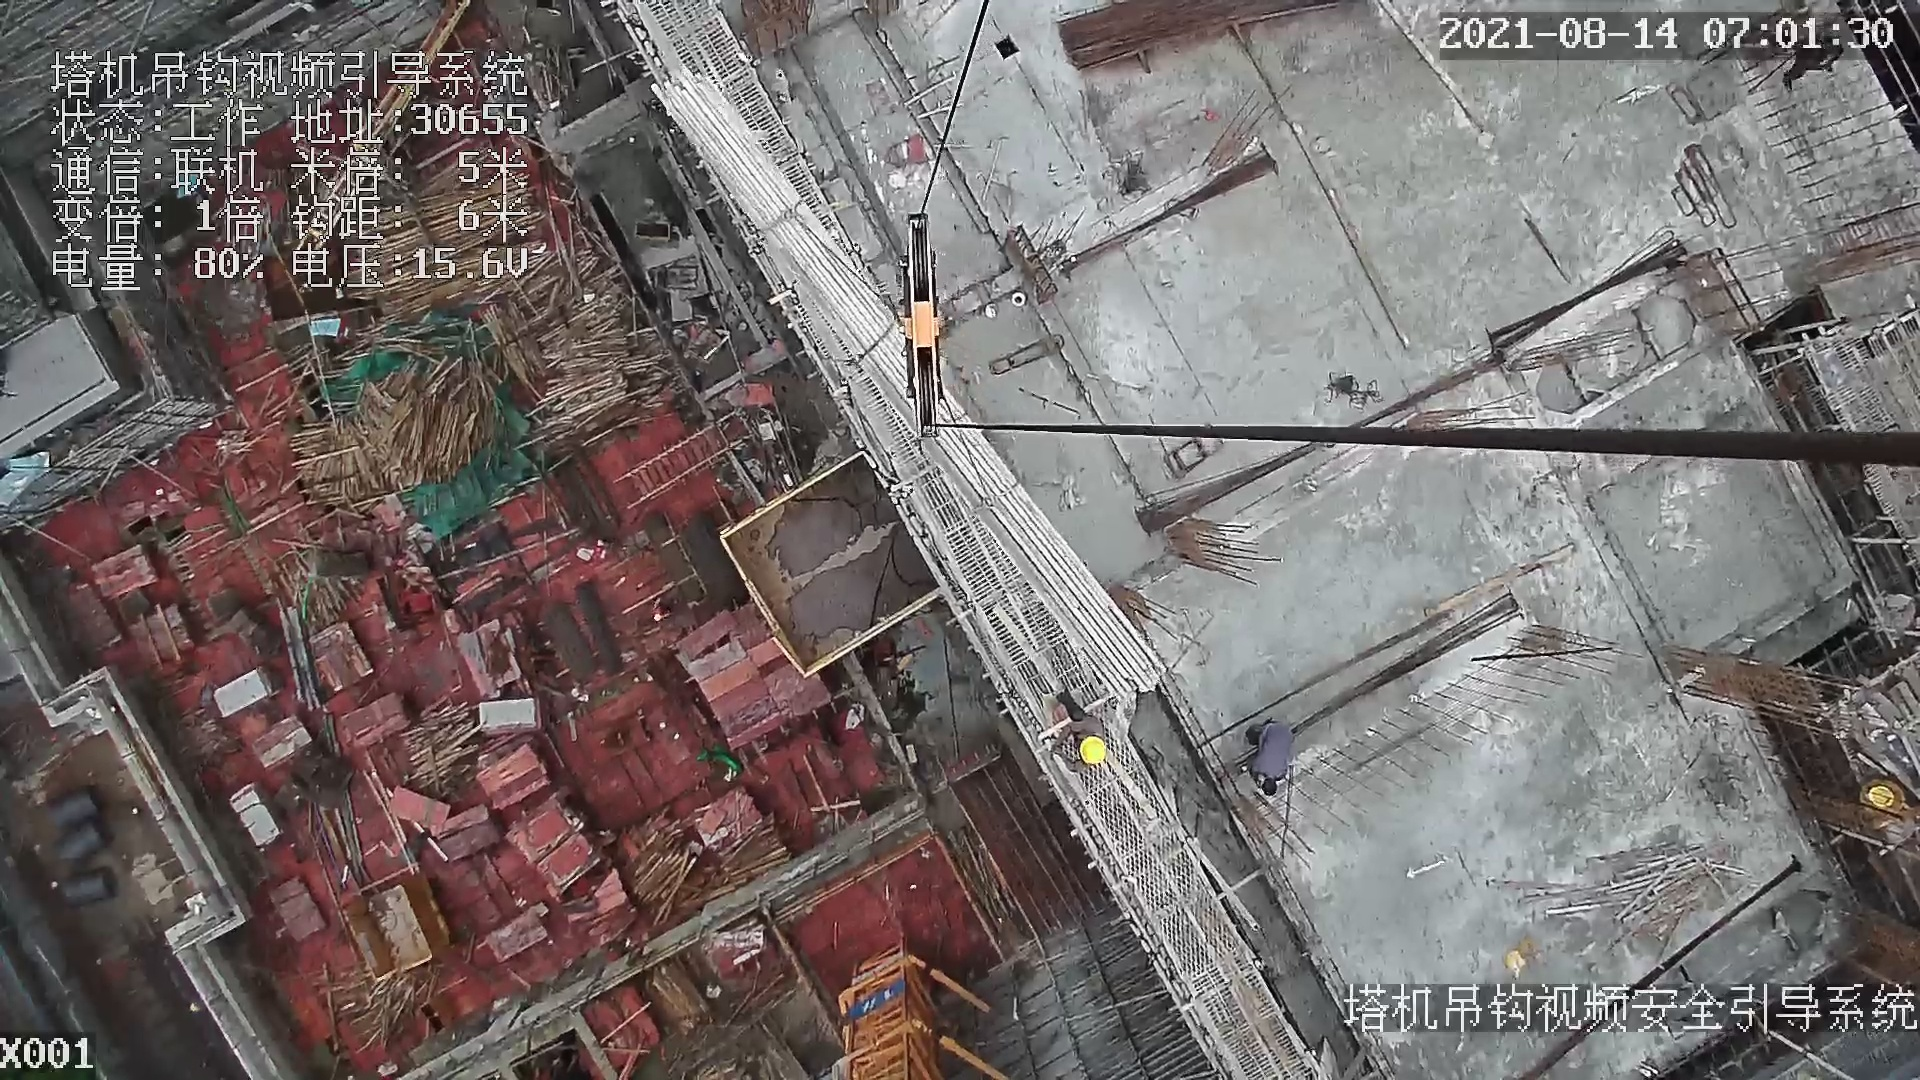helmet: (1074, 731, 1112, 768)
hook: (888, 213, 951, 436)
person: (1051, 691, 1114, 773), (1246, 718, 1297, 794)
